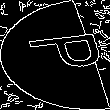P_E: (8, 32, 102, 78)
